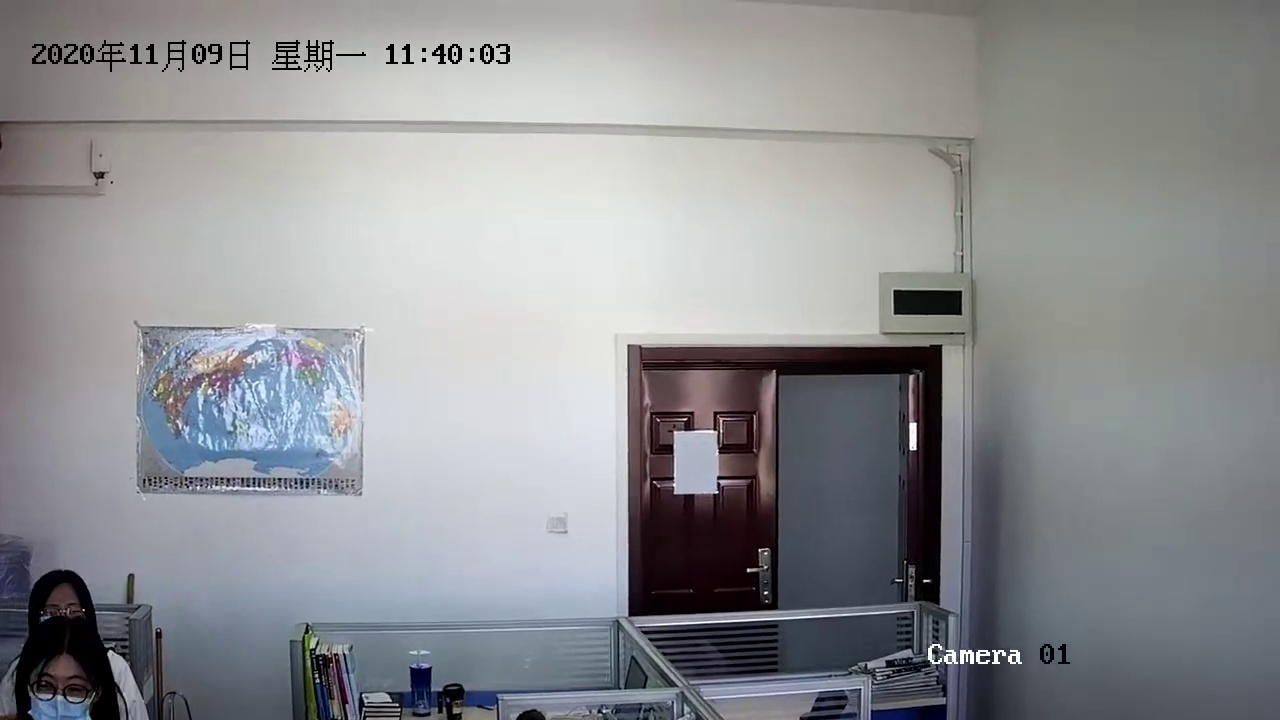mask: (25, 633, 97, 720)
